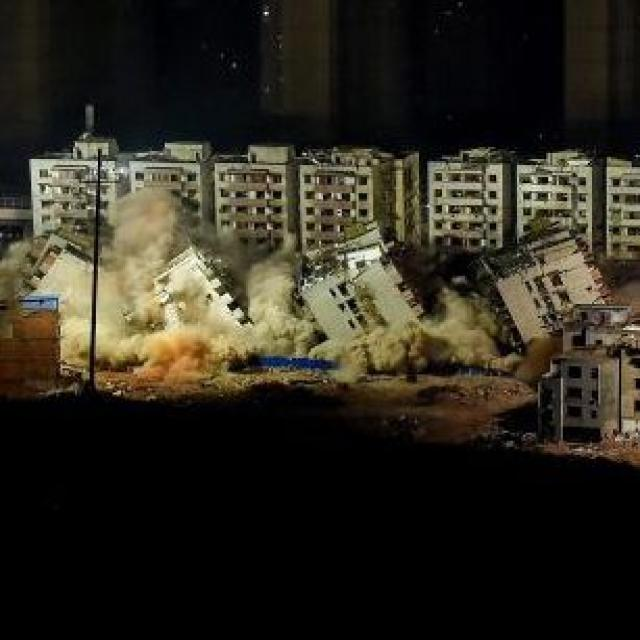collapsed_building: (473, 215, 621, 362), (286, 216, 421, 364), (129, 238, 261, 376), (12, 232, 112, 374)
